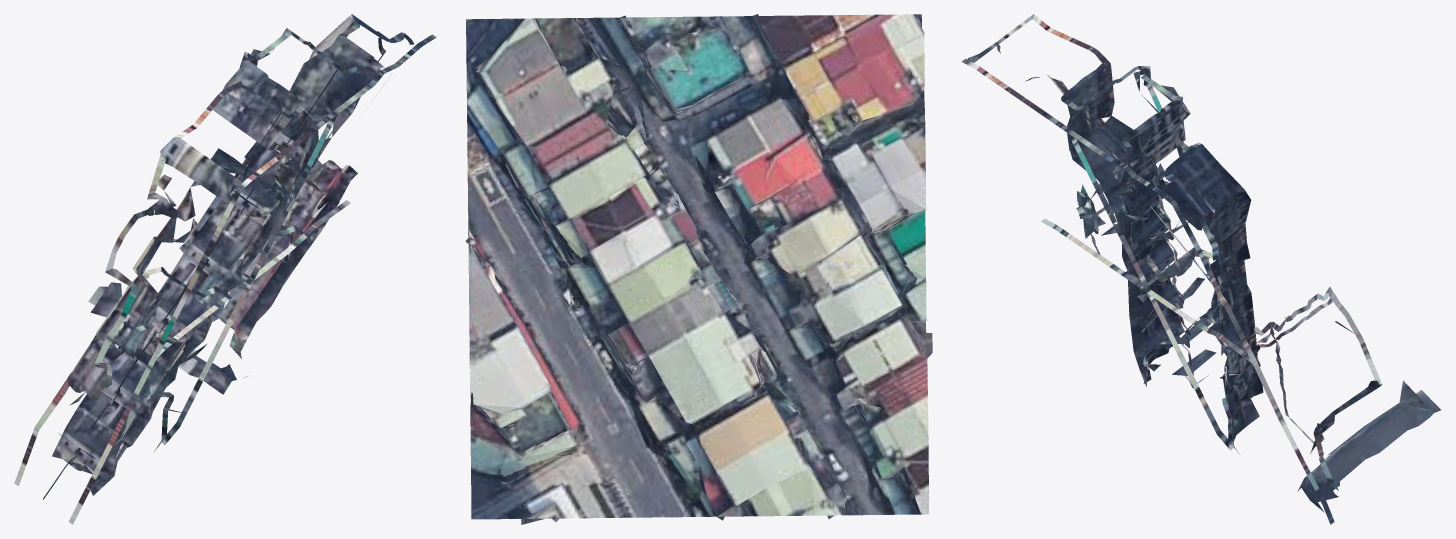
The picture shows the model from 3 angles, left to right: view 1: azimuth 30°, elevation 25°; view 2: azimuth 150°, elevation 25°; view 3: azimuth 270°, elevation 25°; orthographic projection. The views are drawn at different scales.
Bounding box in the file's own units: 81.66 × 77.18 × 83.12.
1 material, 1 textured.
